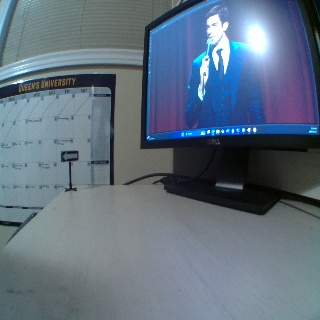sign_oneway_left: (60, 149, 80, 161)
